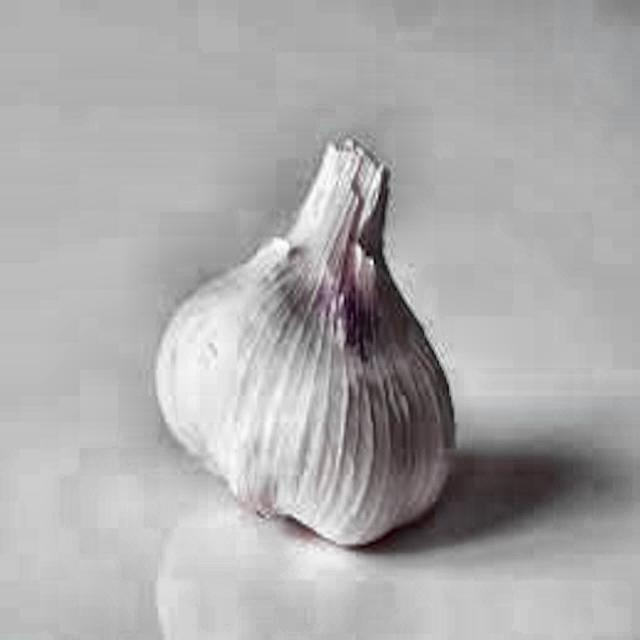garlic: (155, 135, 454, 544)
